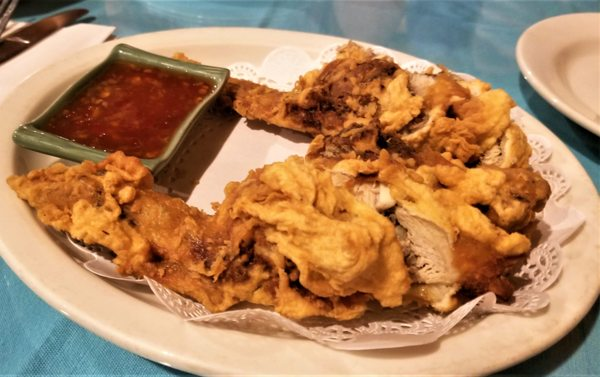curry: (33, 1, 600, 371)
